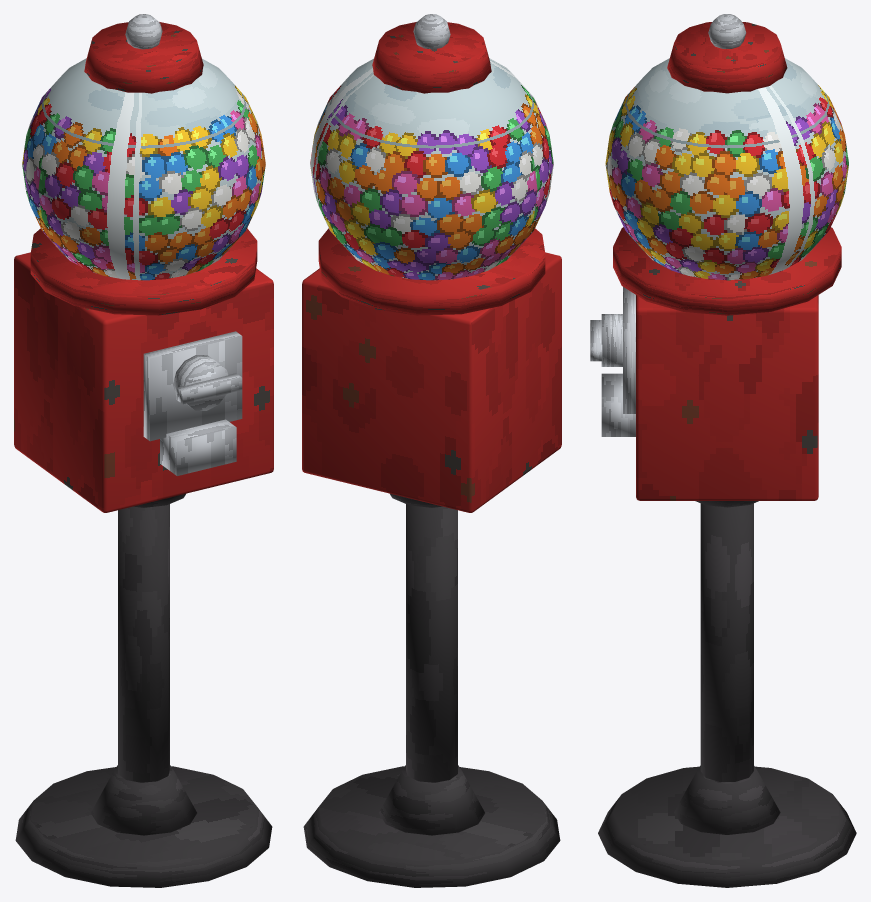
Rendered from gumball_machine_own.glb.
The picture shows the model from 3 angles, left to right: view 1: azimuth 30°, elevation 25°; view 2: azimuth 150°, elevation 25°; view 3: azimuth 270°, elevation 25°; orthographic projection.
Parts seen in each view (by area): view 1: Cone; view 2: Cone; view 3: Cone.
Boxes of the visible parts, x1,y1,x2,y2 form: Cone: (14, 14, 273, 887); Cone: (302, 14, 561, 887); Cone: (590, 14, 856, 887).
Size of the model in its own units: 0.34 by 1.18 by 0.35.
Materials: 4 (4 with a texture image).
